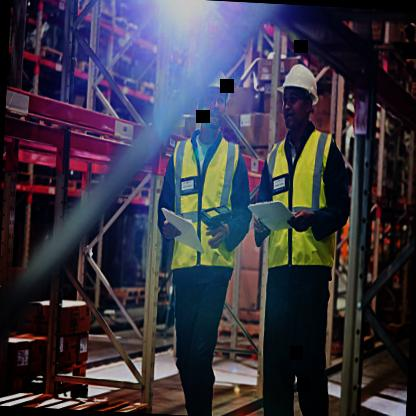helmet: (278, 64, 319, 130), (193, 66, 231, 132)
